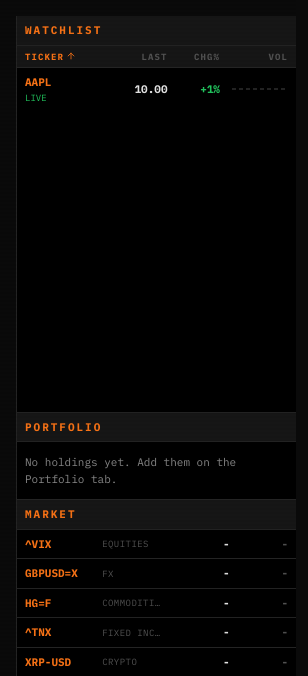
HomeWatchlistSidebar › expands a row to reveal detail metrics on click
Click the button "AAPL LIVE 10.00 +1%" at [156, 89], box [17,68,296,110]
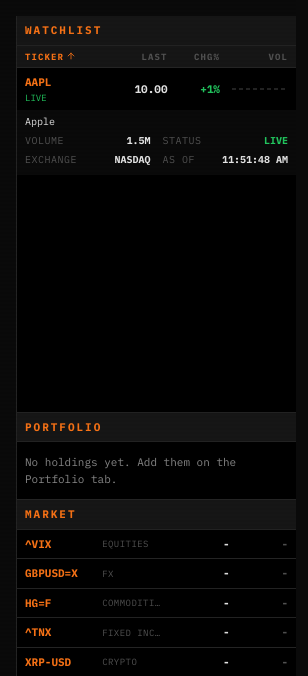
Expected: the text "1.5M" is shown, [126,133,150,148]
